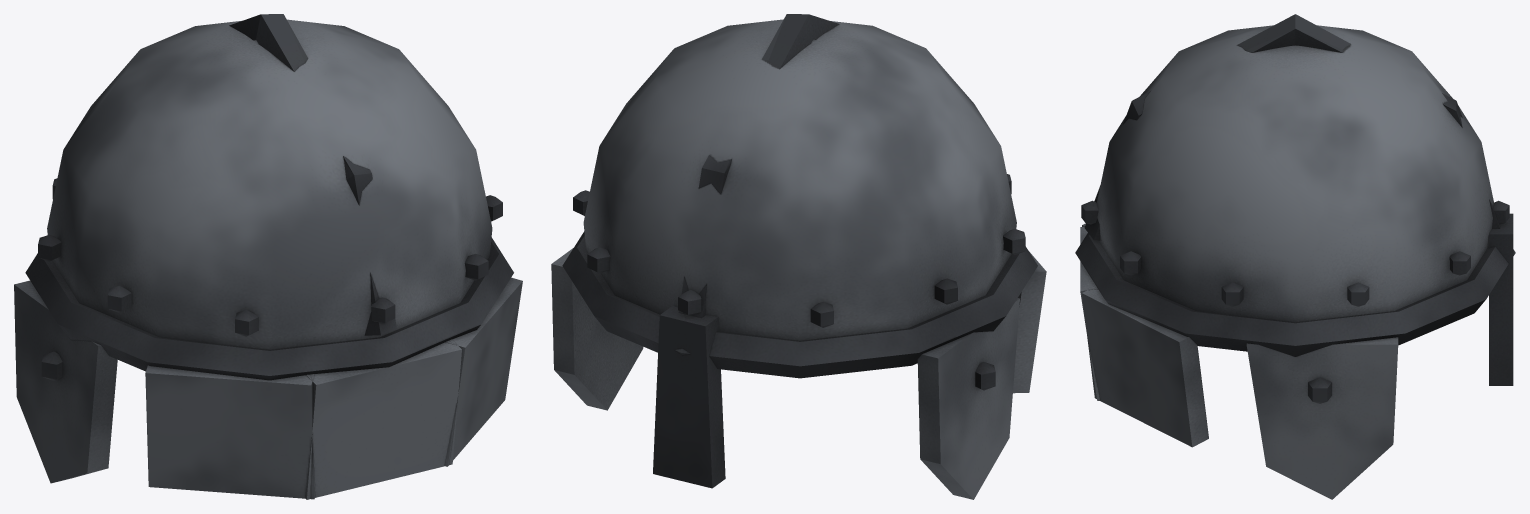
File: casco_hierro.fbx
3 views of the same model, side by side, from view 1: azimuth 30°, elevation 25°; view 2: azimuth 150°, elevation 25°; view 3: azimuth 270°, elevation 25° (orthographic). The views are drawn at different scales.
Visible parts, largest first — view 1: casco_hierro; view 2: casco_hierro; view 3: casco_hierro.
Boxes of the visible parts, left/top/right/bottom form: casco_hierro: left=14, top=14, right=522, bottom=499; casco_hierro: left=551, top=14, right=1046, bottom=499; casco_hierro: left=1075, top=14, right=1515, bottom=499.
Bounding box in the file's own units: 1.81 × 1.78 × 1.8.
1 material, 1 textured.
